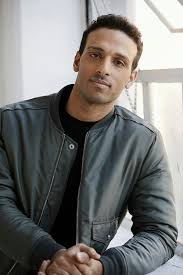middle_eastern_male: (80, 20, 138, 105)
